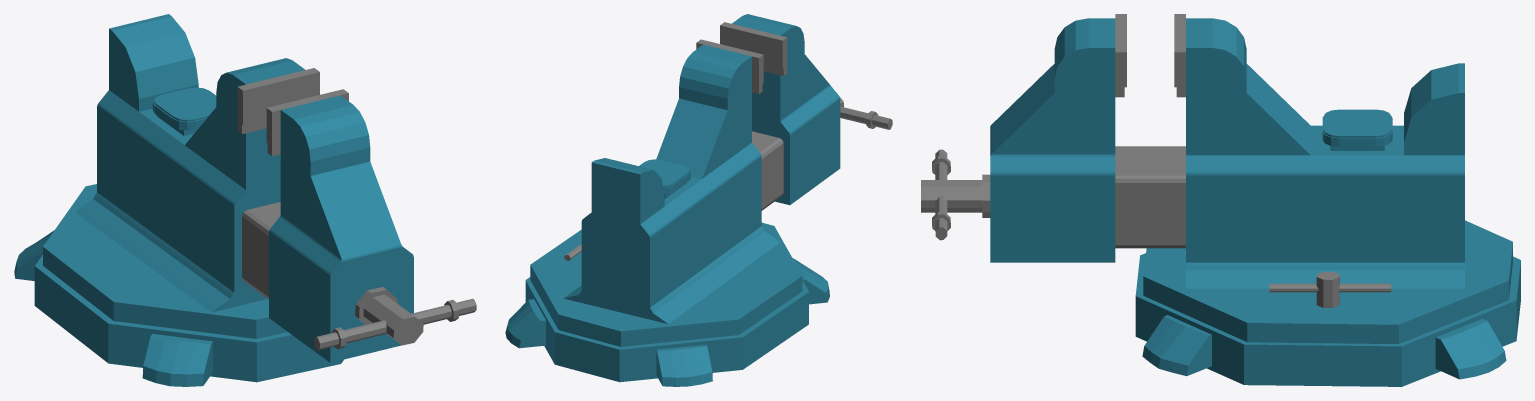
Rendered from Vice_01.glb.
3 views of the same model, side by side, from view 1: azimuth 30°, elevation 25°; view 2: azimuth 150°, elevation 25°; view 3: azimuth 270°, elevation 25° (orthographic). The views are drawn at different scales.
Parts seen in each view (by area): view 1: Mesh_Vice_01; view 2: Mesh_Vice_01; view 3: Mesh_Vice_01.
Boxes of the visible parts, <box> form: Mesh_Vice_01: <box>14,14,476,386</box>; Mesh_Vice_01: <box>505,14,892,386</box>; Mesh_Vice_01: <box>921,14,1520,386</box>.
Bounding box in the file's own units: 0.2688 × 0.2596 × 0.498.
1 material, 1 textured.
